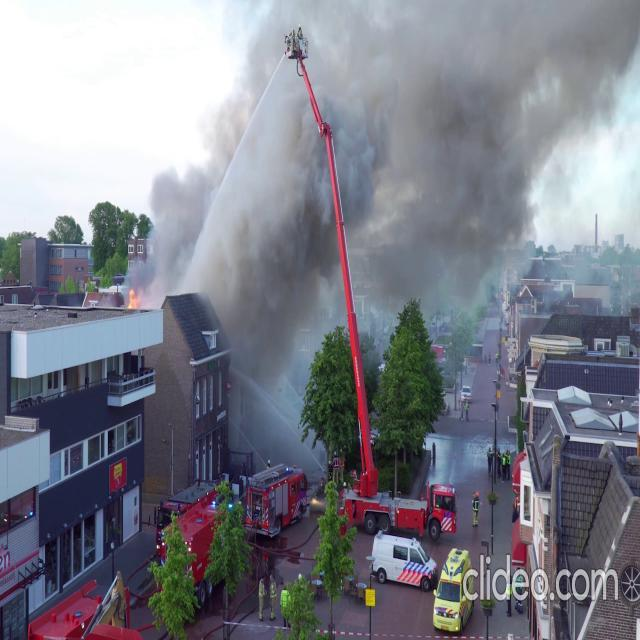Fire: (126, 280, 138, 312)
Smoke: (141, 0, 640, 347)
